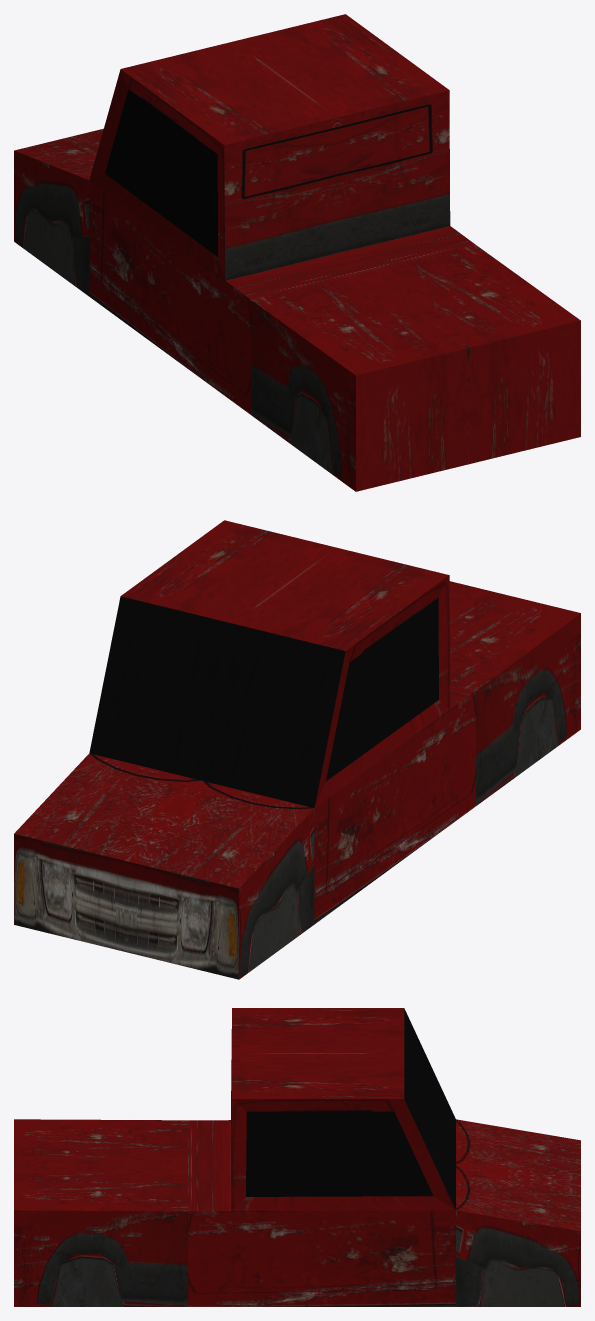
Rendered from car.obj.
3 views of the same model, one above another, from view 1: azimuth 30°, elevation 25°; view 2: azimuth 150°, elevation 25°; view 3: azimuth 270°, elevation 25° (orthographic). The views are drawn at different scales.
Visible parts, largest first — view 1: Cube_Cube_Material; view 2: Cube_Cube_Material; view 3: Cube_Cube_Material.
Boxes of the visible parts, x1,y1,x2,y2 form: Cube_Cube_Material: (14, 14, 580, 491); Cube_Cube_Material: (14, 520, 580, 979); Cube_Cube_Material: (14, 1008, 580, 1306).
Size of the model in its own units: 2 by 2.13 by 5.26.
Materials: 1 (1 with a texture image).
